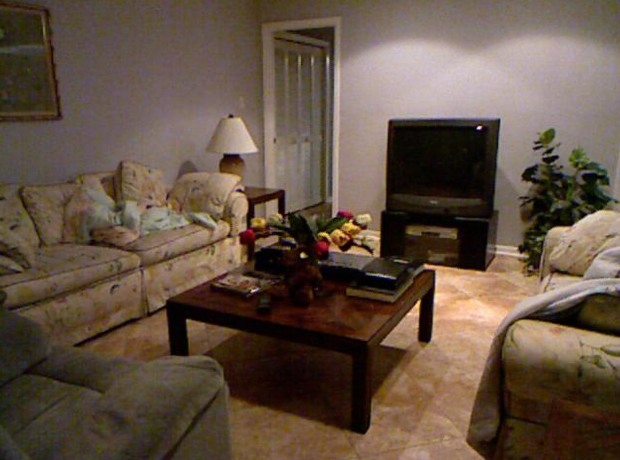couch: (0, 360, 223, 460), (0, 170, 243, 260), (538, 229, 620, 458)
openedDoor: (258, 16, 338, 201)
table: (166, 264, 439, 355)
